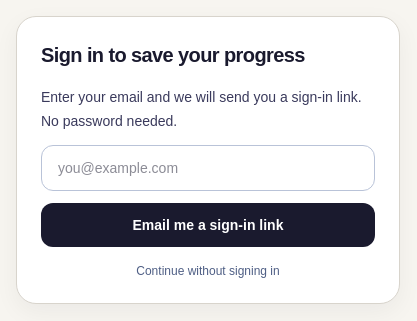
it: SignIn page › tells the person to check their email after asking for a link
Type "learner@example.com" into the field named "email address" at (208, 168), box [41,145,375,191]
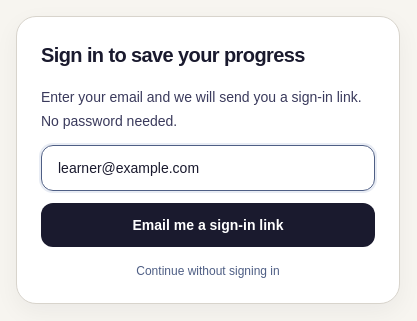
Click the button "Email me a sign-in link" at (208, 225), box [41,203,375,247]
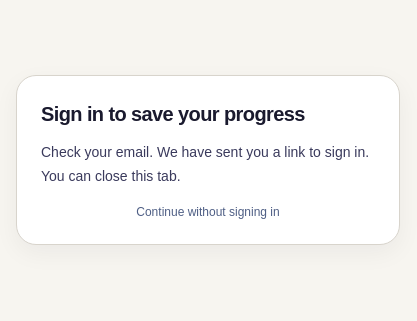
Expected: the text "Check your email" is shown, [41,144,369,184]
